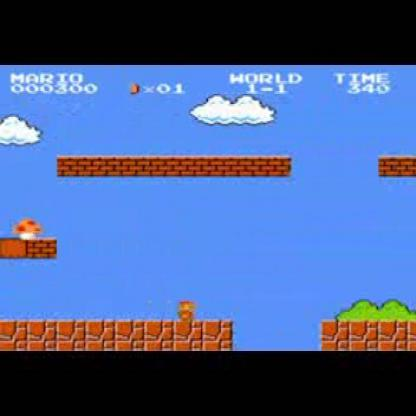Hoyo: (228, 317, 328, 351)
